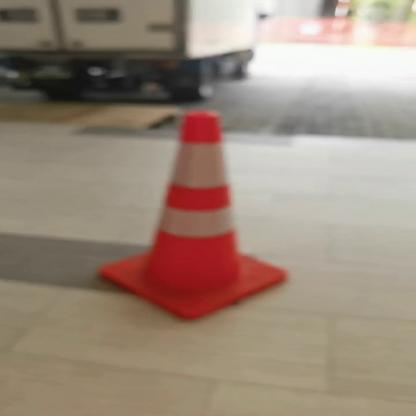cone: (92, 113, 337, 331)
